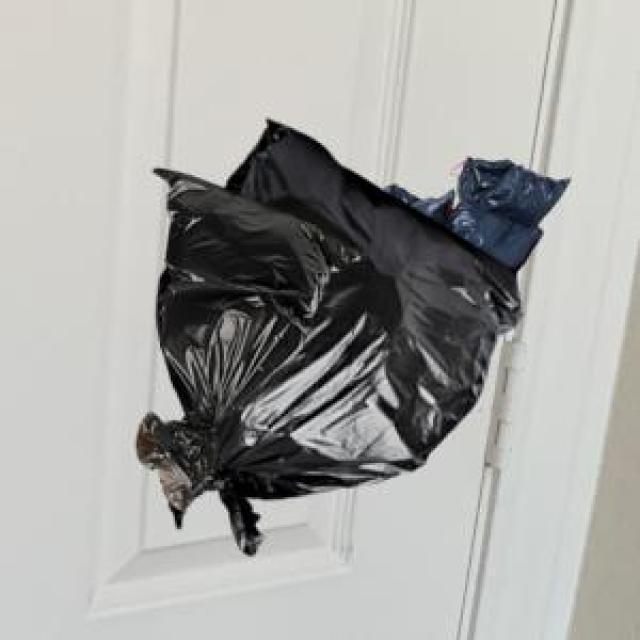Vinyl: (139, 121, 567, 552)
